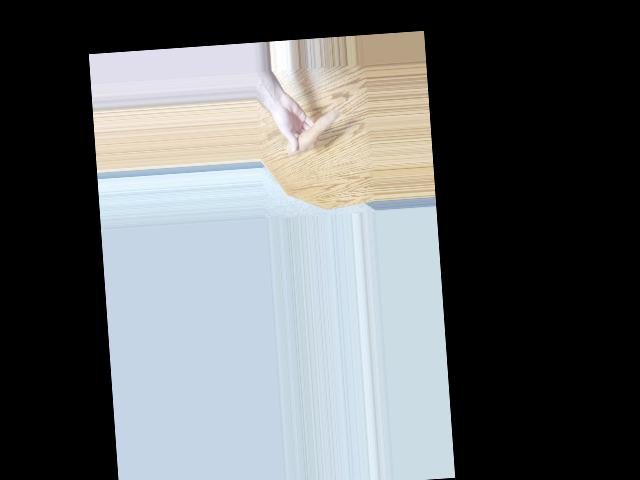sweet_potato: (284, 107, 341, 153)
